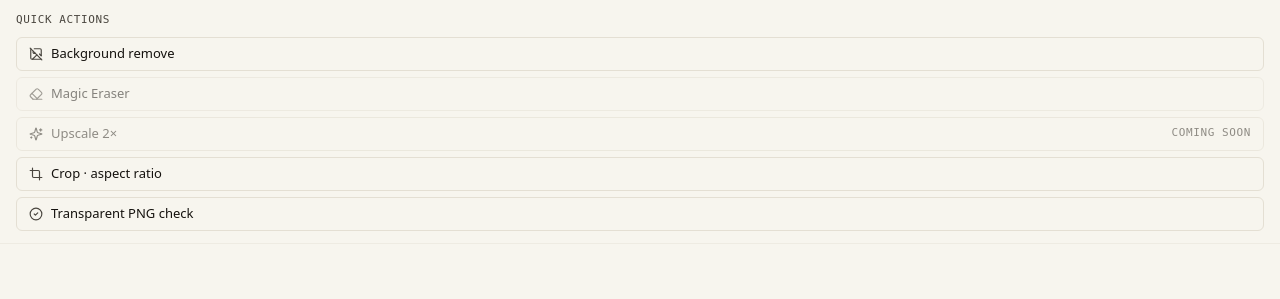
Test: QuickActions — Transparent check › Success sonrası inline result görünür (response.item.editHistoryJson son entry summary)
This screenshot has width=1280, height=299.
Click the button "Transparent PNG check": coordinates (122, 213) [16,196,1264,230]
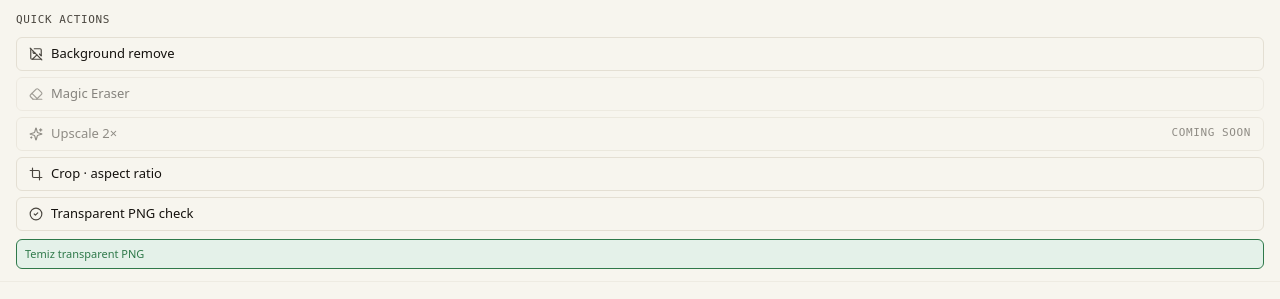
Check: the text "Temiz transparent PNG" is shown, box [16,238,1264,269]
